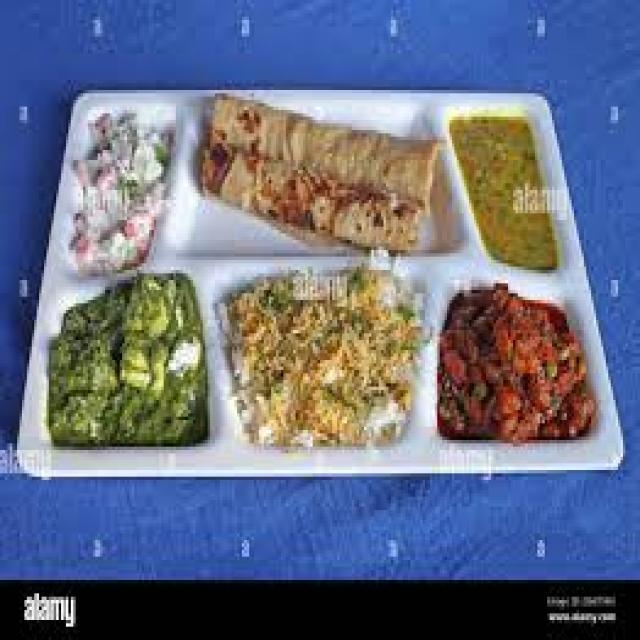dal: (453, 122, 555, 267)
rice: (219, 259, 435, 465)
roti: (195, 93, 453, 254)
veg-fry: (433, 286, 592, 457)
